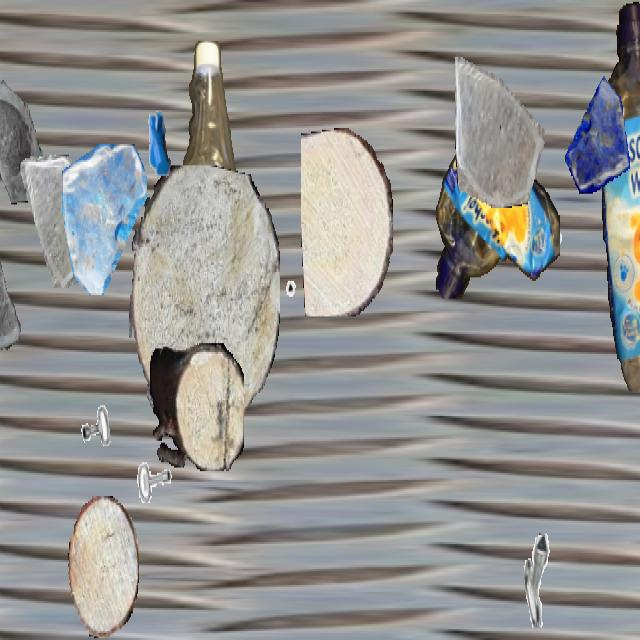glass: (455, 48, 545, 208), (62, 144, 146, 293), (18, 155, 92, 286), (564, 75, 630, 192), (0, 57, 44, 203), (0, 256, 29, 366)
metal: (67, 347, 127, 453), (130, 91, 186, 190), (524, 532, 578, 628), (134, 453, 180, 535), (526, 178, 566, 249), (282, 278, 322, 348), (625, 174, 640, 281)
plastic: (162, 41, 244, 393), (434, 137, 560, 297), (602, 2, 640, 389)
wood: (129, 166, 279, 436), (301, 128, 393, 316), (150, 343, 244, 471), (68, 496, 138, 638)
